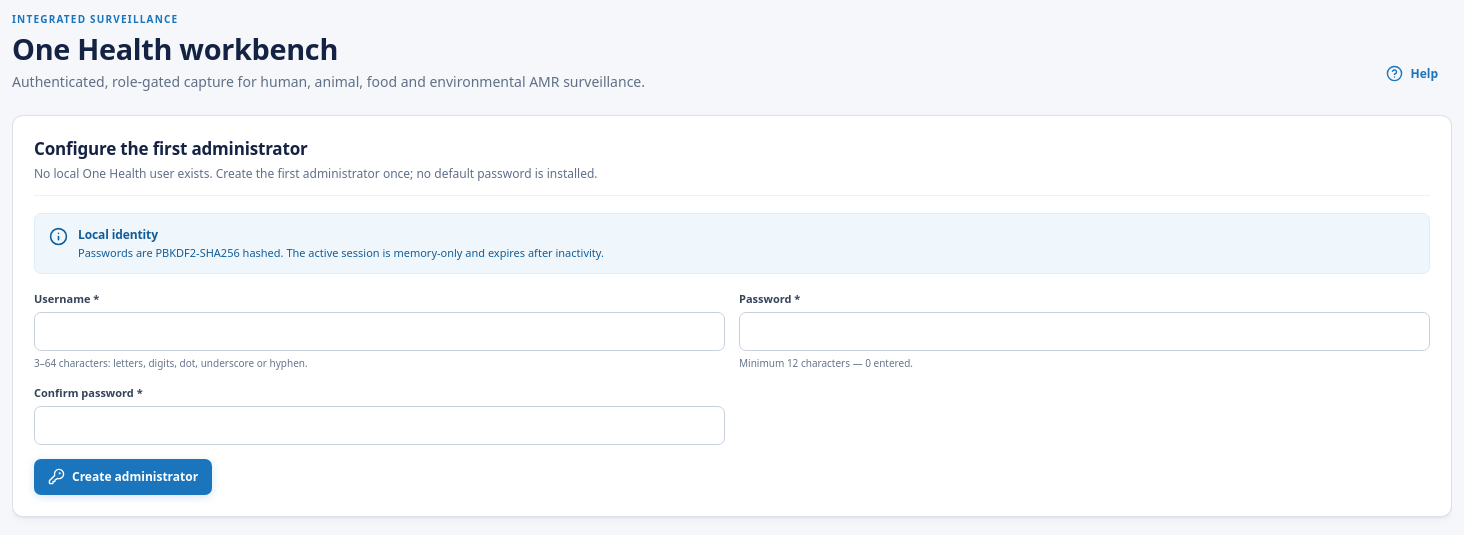
OneHealthPage first-administrator credentials › states the length rule and counts characters before anything is submitted
This screenshot has width=1464, height=535.
Expected: the button "Create administrator" is shown, [34,459,212,495]
Expected: the text "Minimum 12 characters — 0 entered." is shown, [739,356,913,370]
Type "short" into the password field labelled "Password * Minimum 12 characters — 0 entered." at (1084, 332), box [739,312,1430,351]
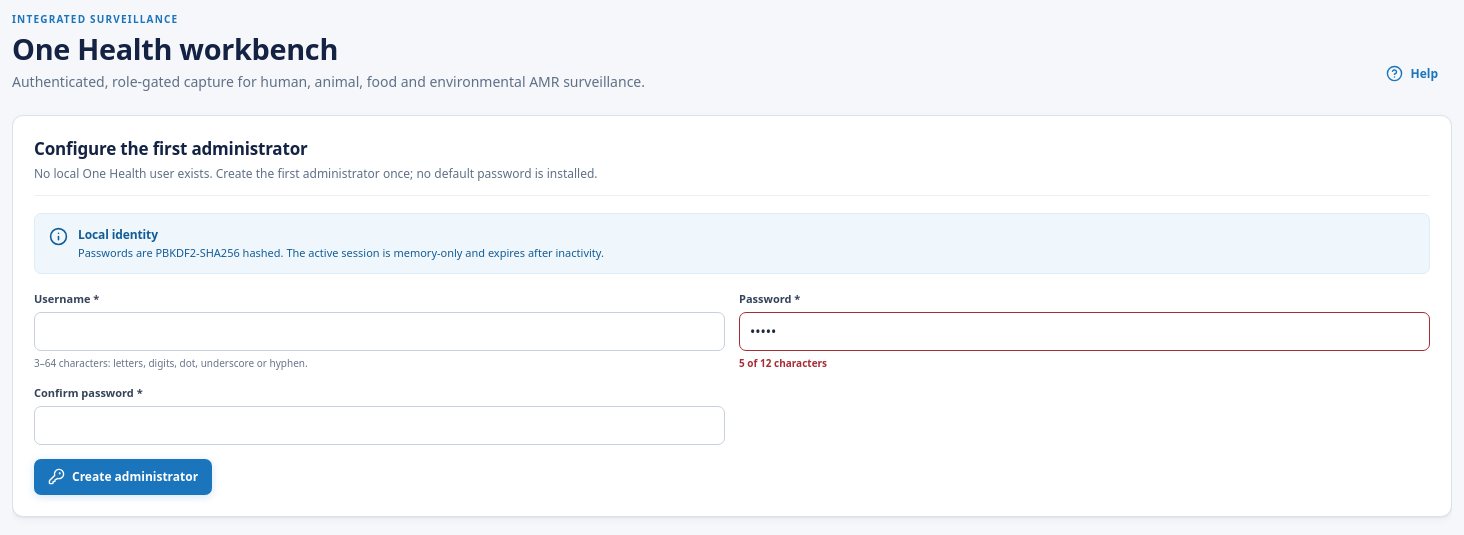
Now the text "5 of 12 characters" is shown, box [739,356,827,370]
